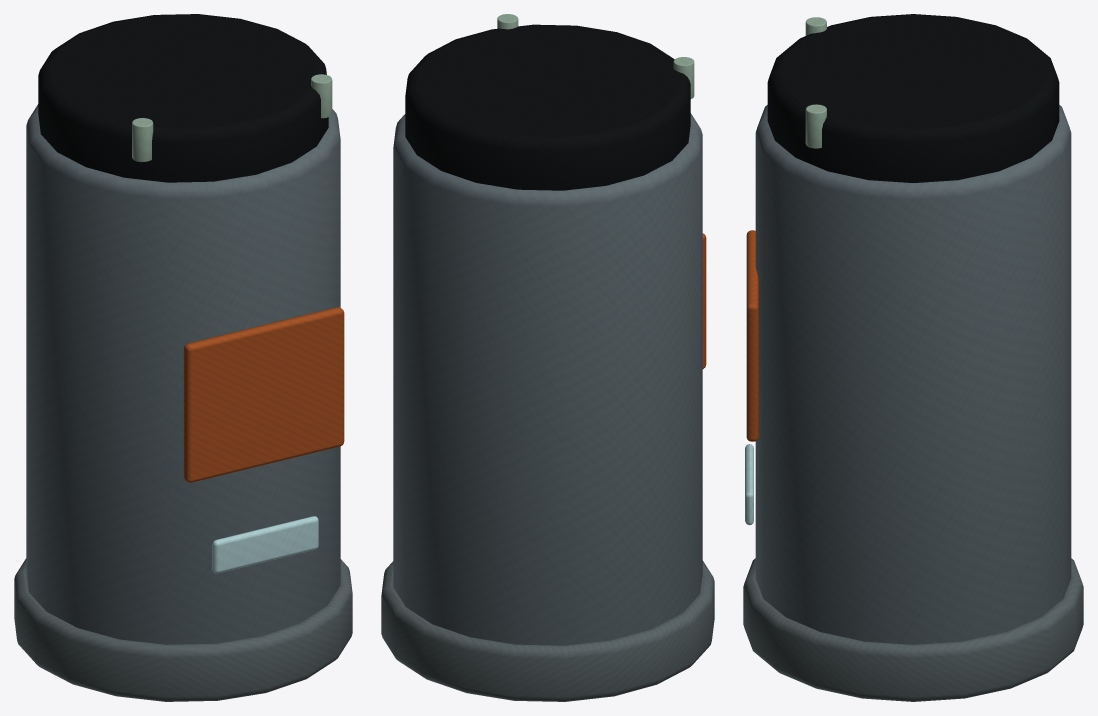
The model's file is DecontaminationCanister.fbx.
3 views of the same model, side by side, from view 1: azimuth 30°, elevation 25°; view 2: azimuth 150°, elevation 25°; view 3: azimuth 270°, elevation 25° (orthographic).
Visible parts, largest first — view 1: DecontaminationCanister_Mesh; view 2: DecontaminationCanister_Mesh; view 3: DecontaminationCanister_Mesh.
Part boxes in pixels (x1,y1,x2,y2): DecontaminationCanister_Mesh: (14, 14, 352, 701); DecontaminationCanister_Mesh: (381, 14, 714, 701); DecontaminationCanister_Mesh: (743, 14, 1083, 701).
Size of the model in its own units: 56 by 103 by 56.
